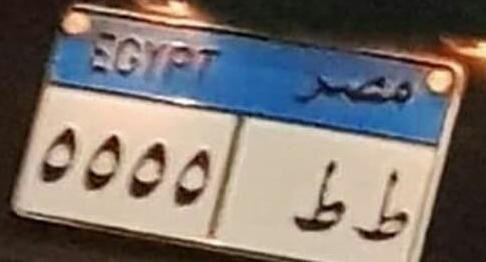5: (170, 143, 218, 212), (81, 131, 124, 197), (37, 127, 78, 192), (130, 142, 167, 197)
Taa: (352, 162, 420, 253), (292, 158, 346, 235)
